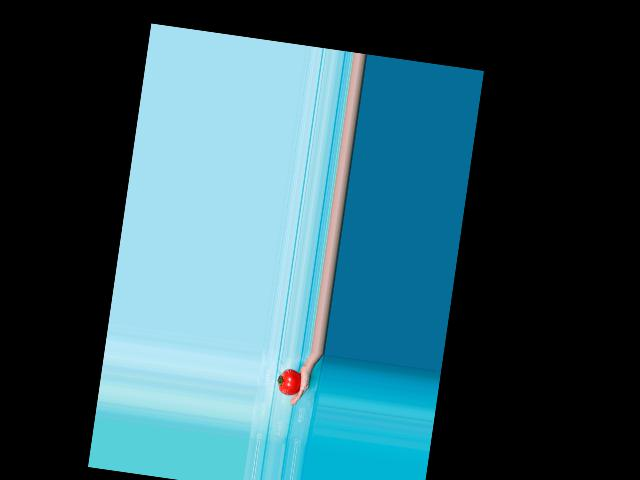tomato: (276, 368, 302, 397)
